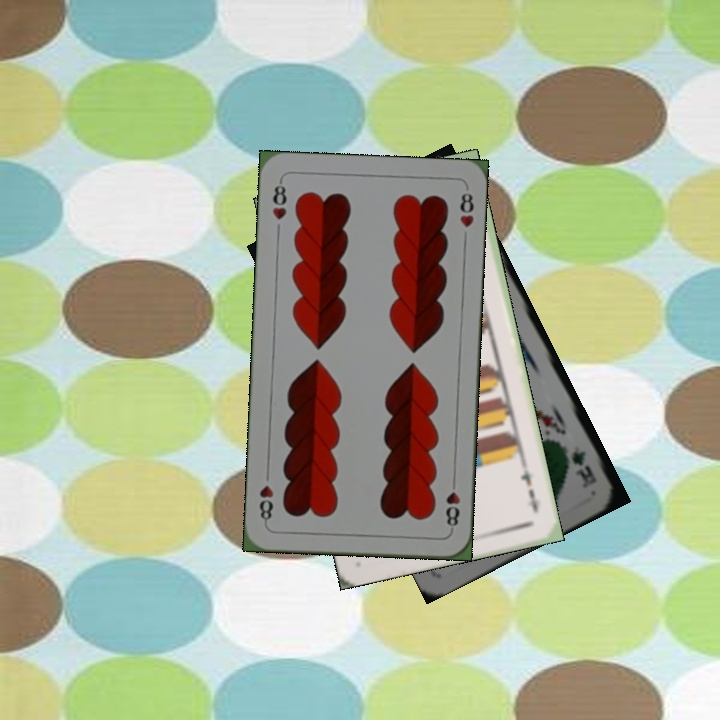E7: (516, 461, 541, 516)
GK: (568, 442, 599, 489)
H8: (442, 474, 462, 533), (268, 176, 289, 223)
